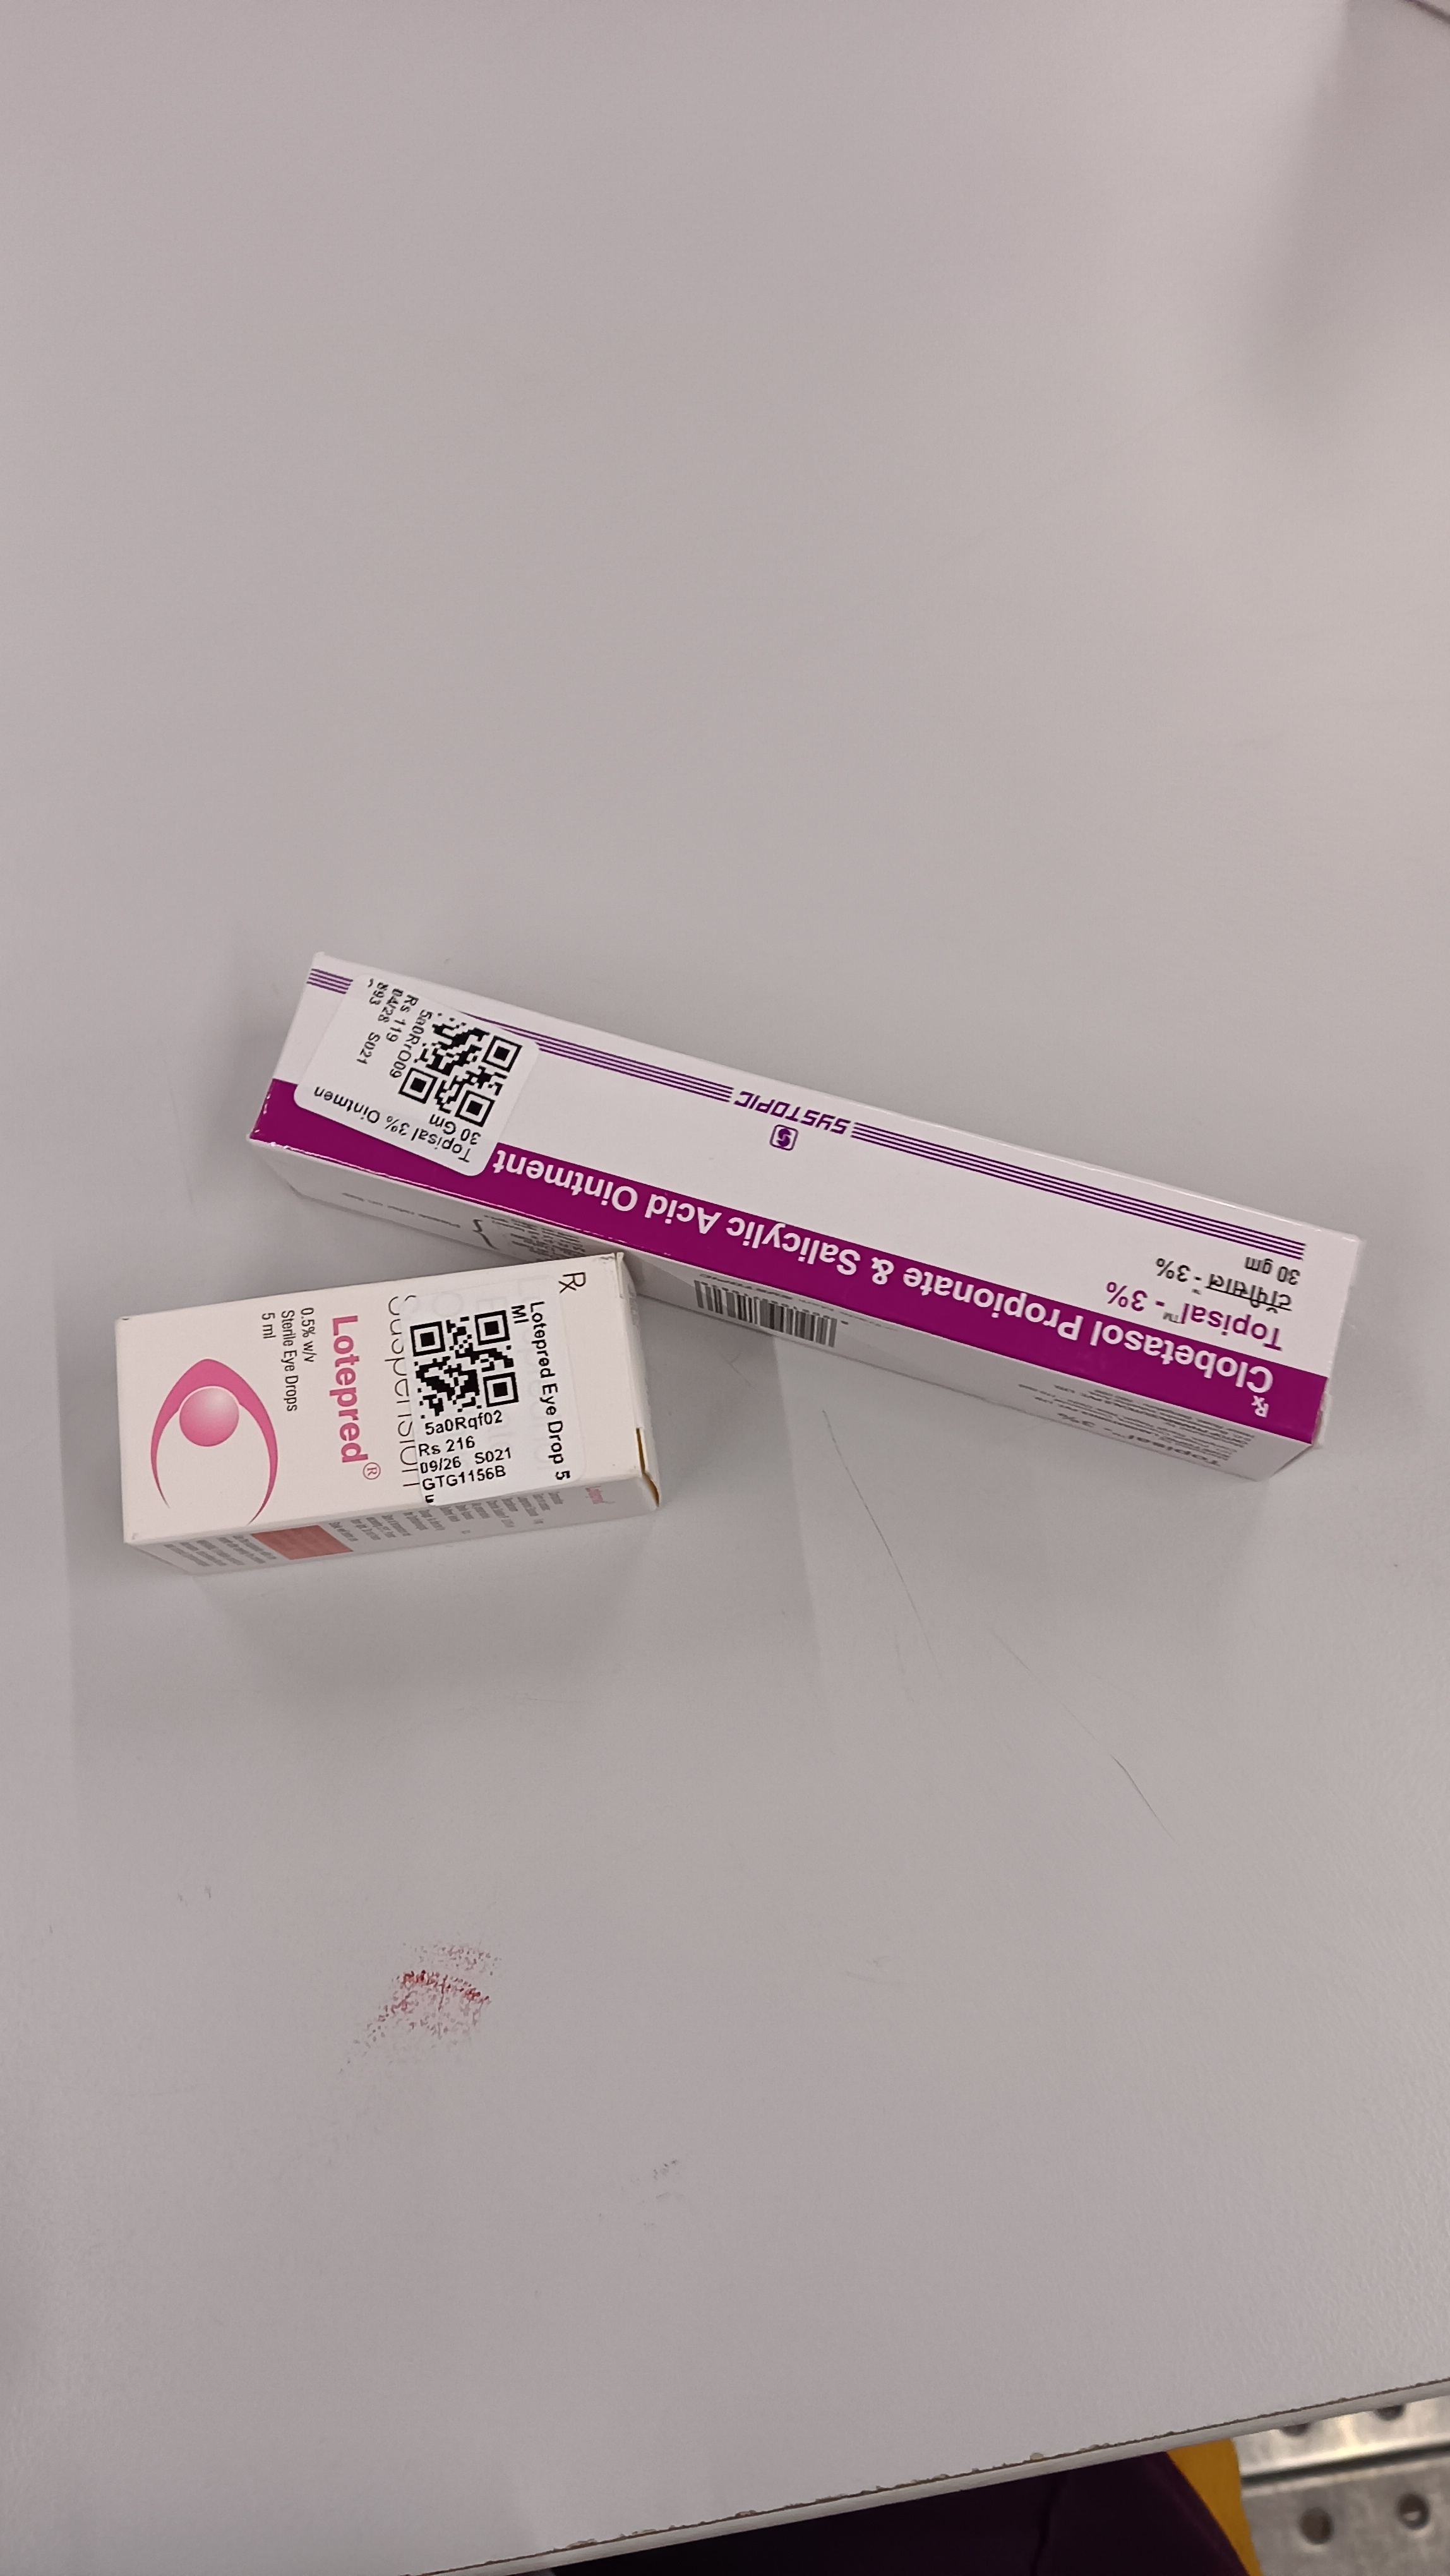QR: (409, 1254, 519, 1364)
